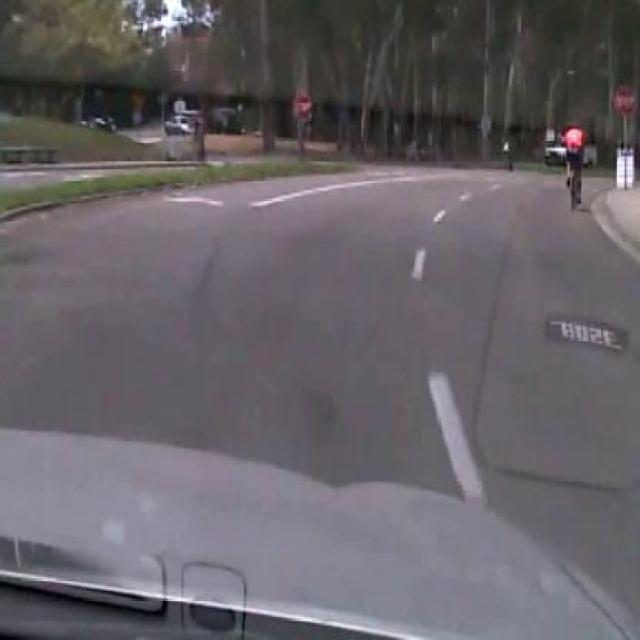Stop: (612, 82, 638, 121)
